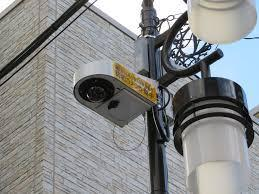maru: (69, 52, 159, 127)
